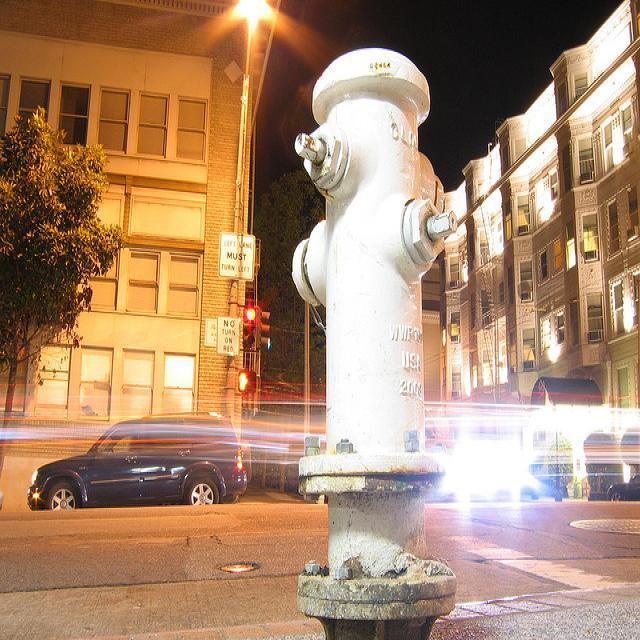fire_hydrant: (291, 46, 459, 640)
